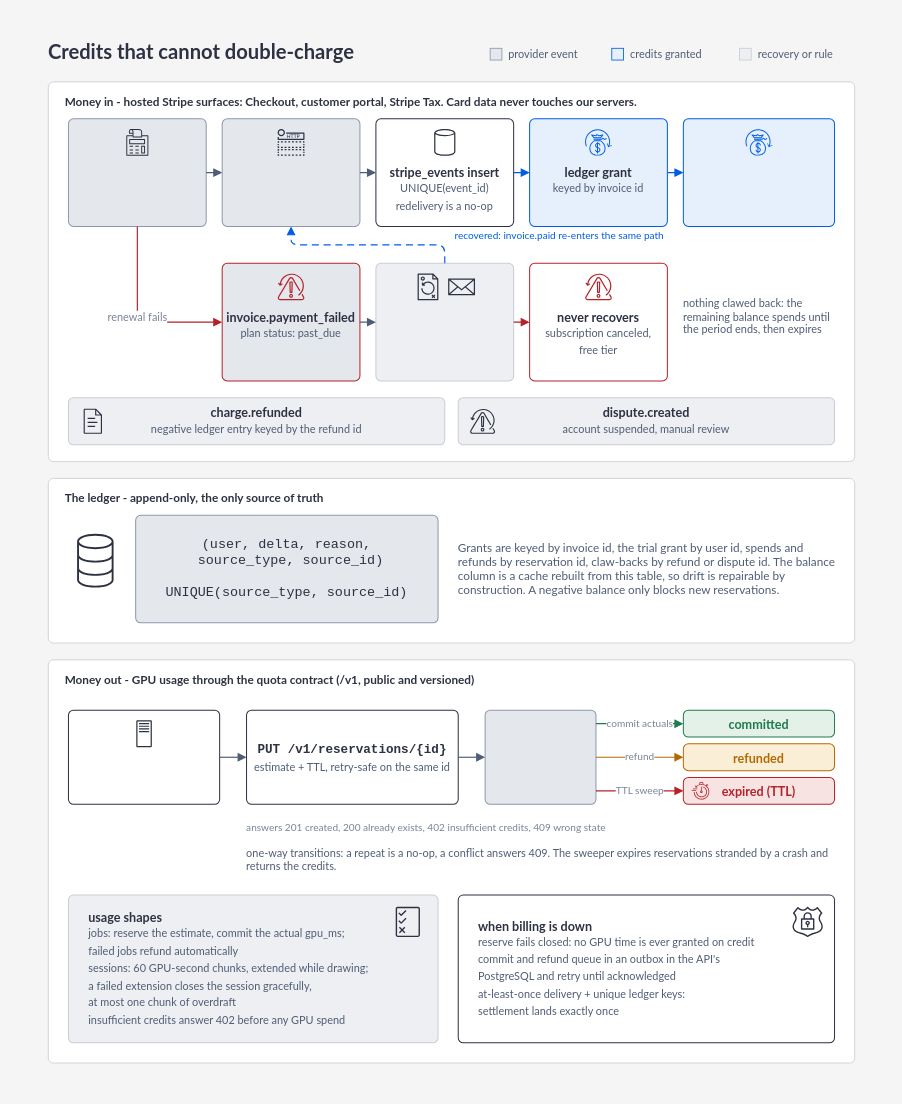
This 902x1104 diagram has some shape labels left out. The shapes that lost their labels are listed below. From the top down, each one's box as (x1, y1, x2, y2) in pixels, then its label:
(68, 118, 206, 226): Stripe Checkout subscription tiers
(221, 118, 360, 226): webhook invoice.paid
(682, 118, 835, 226): balance = tier grant resets each period
(375, 262, 514, 381): Smart Retries + dunning hosted emails, about two weeks
(68, 709, 220, 804): API generates a reservation UUID
(484, 709, 596, 804): reserved
